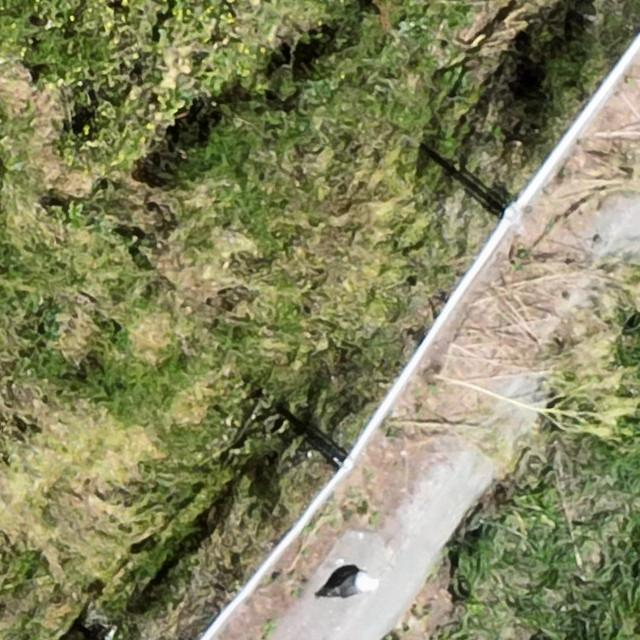umineko: (326, 572, 381, 599)
